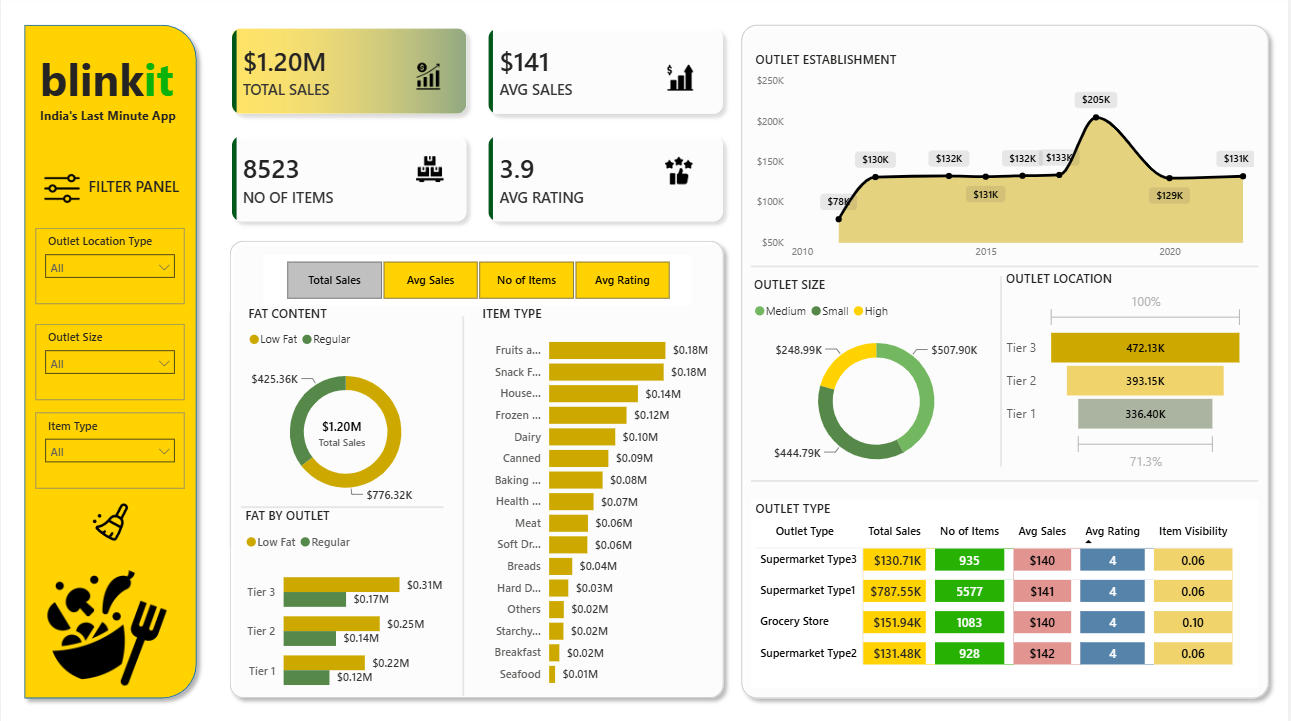

What the dashboard file says about the page in this screenshot:
{"tool":"powerbi","page":{"name":"Page 1","canvas":[1400,800],"ordinal":0},"visuals":[{"type":"shape","box":[16.6,24.8,205.4,750.2],"z":0},{"type":"textbox","box":[38.1,53,164,101],"z":1000},{"type":"textbox","box":[38.1,117.6,173.9,64.6],"z":2000},{"type":"cardVisual","fields":{"Data":["BlinkIT Grocery Data.Total Sales","BlinkIT Grocery Data.Avg Sales","BlinkIT Grocery Data.No of Items","BlinkIT Grocery Data.Avg Rating"]},"box":[221.9,8.3,592.9,270],"z":3000},{"type":"image","box":[428.9,59.6,71.2,58],"z":4000},{"type":"image","box":[702.2,61.3,71.2,58],"z":5000},{"type":"image","box":[430.6,160.6,71.2,58],"z":6000},{"type":"image","box":[700.6,162.3,71.2,58],"z":7000},{"type":"shape","box":[240.1,260,554.8,515.1],"z":8000},{"type":"donutChart","title":"FAT CONTENT ","fields":{"Y":["BlinkIT Grocery Data.Total Sales"],"Category":["BlinkIT Grocery Data.Item Fat Content"]},"box":[263.3,337.9,220.3,230.2],"z":9000},{"type":"slicer","fields":{"Values":["Metrics.Metrics"]},"box":[284.9,283.2,465.4,54.7],"z":10000},{"type":"cardVisual","fields":{"Data":["BlinkIT Grocery Data.Total Sales"]},"box":[313,433.9,115.9,87.8],"z":11000},{"type":"clusteredBarChart","title":"FAT BY OUTLET","fields":{"Y":["BlinkIT Grocery Data.Total Sales"],"Category":["BlinkIT Grocery Data.Outlet Location Type"],"Series":["BlinkIT Grocery Data.Item Fat Content"]},"box":[261.7,558.1,223.6,217],"z":12000},{"type":"shape","box":[261.7,546.5,220.3,23.2],"z":13000},{"type":"shape","box":[485.3,351.1,33.1,412.4],"z":14000},{"type":"barChart","title":"ITEM TYPE","fields":{"Y":["BlinkIT Grocery Data.Total Sales"],"Category":["BlinkIT Grocery Data.Item Type"]},"box":[518.4,337.9,255,425.6],"z":15000},{"type":"shape","box":[795,24.8,591.2,750.2],"z":16000},{"type":"lineChart","title":"OUTLET ESTABLISHMENT","fields":{"Y":["BlinkIT Grocery Data.Total Sales"],"Category":["BlinkIT Grocery Data.Outlet Establishment Year"]},"box":[814.8,61.3,551.5,235.2],"z":17000},{"type":"shape","box":[814.8,233.5,551.5,125.9],"z":18000},{"type":"donutChart","title":"OUTLET SIZE","fields":{"Y":["BlinkIT Grocery Data.Total Sales"],"Category":["BlinkIT Grocery Data.Outlet Size"]},"box":[813.2,306.4,274.9,225.2],"z":19000},{"type":"shape","box":[1068.2,306.4,38.1,207],"z":20000},{"type":"funnel","title":"OUTLET LOCATION","fields":{"Y":["Sum(BlinkIT Grocery Data.Sales)"],"Category":["BlinkIT Grocery Data.Outlet Location Type"]},"box":[1088.1,299.8,268.3,221.9],"z":21000},{"type":"shape","box":[814.8,467,551.5,125.9],"z":22000},{"type":"pivotTable","title":"OUTLET TYPE","fields":{"Rows":["BlinkIT Grocery Data.Outlet Type"],"Values":["BlinkIT Grocery Data.Total Sales","BlinkIT Grocery Data.No of Items","BlinkIT Grocery Data.Avg Sales","BlinkIT Grocery Data.Avg Rating","Avg(BlinkIT Grocery Data.Item Visibility)"]},"box":[814.8,549.8,551.5,203.7],"z":23000},{"type":"slicer","fields":{"Values":["BlinkIT Grocery Data.Outlet Location Type"]},"box":[38.1,255,162.3,82.8],"z":24000},{"type":"slicer","fields":{"Values":["BlinkIT Grocery Data.Outlet Size"]},"box":[38.1,359.4,162.3,82.8],"z":25000},{"type":"slicer","fields":{"Values":["BlinkIT Grocery Data.Item Type"]},"box":[38.1,455.4,162.3,82.8],"z":26000},{"type":"textbox","box":[87.8,192.1,112.6,41.4],"z":26001},{"type":"image","box":[46.4,192.1,41.4,38.1],"z":26002},{"type":"image","box":[62.9,549.8,114.3,49.7],"z":26003},{"type":"image","box":[31.5,621.1,167.3,132.5],"z":26004}]}

Visuals, with their boxes in screenshot pixels (x1, y1, x2, y2), scaled from the page's 1400x800 canvas onto the 1291x721 screenshot:
shape: (left=15, top=22, right=205, bottom=698)
textbox: (left=35, top=48, right=186, bottom=139)
textbox: (left=35, top=106, right=195, bottom=164)
cardVisual - BlinkIT Grocery Data.Total Sales x BlinkIT Grocery Data.Avg Sales: (left=205, top=7, right=751, bottom=251)
image: (left=396, top=54, right=461, bottom=106)
image: (left=648, top=55, right=713, bottom=108)
image: (left=397, top=145, right=463, bottom=197)
image: (left=646, top=146, right=712, bottom=199)
shape: (left=221, top=234, right=733, bottom=699)
"FAT CONTENT " donutChart: (left=243, top=305, right=446, bottom=512)
slicer - Metrics.Metrics: (left=263, top=255, right=692, bottom=305)
cardVisual - BlinkIT Grocery Data.Total Sales: (left=289, top=391, right=396, bottom=470)
"FAT BY OUTLET" clusteredBarChart: (left=241, top=503, right=448, bottom=699)
shape: (left=241, top=493, right=444, bottom=513)
shape: (left=448, top=316, right=478, bottom=688)
"ITEM TYPE" barChart: (left=478, top=305, right=713, bottom=688)
shape: (left=733, top=22, right=1278, bottom=698)
"OUTLET ESTABLISHMENT" lineChart: (left=751, top=55, right=1260, bottom=267)
shape: (left=751, top=210, right=1260, bottom=324)
"OUTLET SIZE" donutChart: (left=750, top=276, right=1003, bottom=479)
shape: (left=985, top=276, right=1020, bottom=463)
"OUTLET LOCATION" funnel: (left=1003, top=270, right=1251, bottom=470)
shape: (left=751, top=421, right=1260, bottom=534)
"OUTLET TYPE" pivotTable: (left=751, top=496, right=1260, bottom=679)
slicer - BlinkIT Grocery Data.Outlet Location Type: (left=35, top=230, right=185, bottom=304)
slicer - BlinkIT Grocery Data.Outlet Size: (left=35, top=324, right=185, bottom=399)
slicer - BlinkIT Grocery Data.Item Type: (left=35, top=410, right=185, bottom=485)
textbox: (left=81, top=173, right=185, bottom=210)
image: (left=43, top=173, right=81, bottom=207)
image: (left=58, top=496, right=163, bottom=540)
image: (left=29, top=560, right=183, bottom=679)
